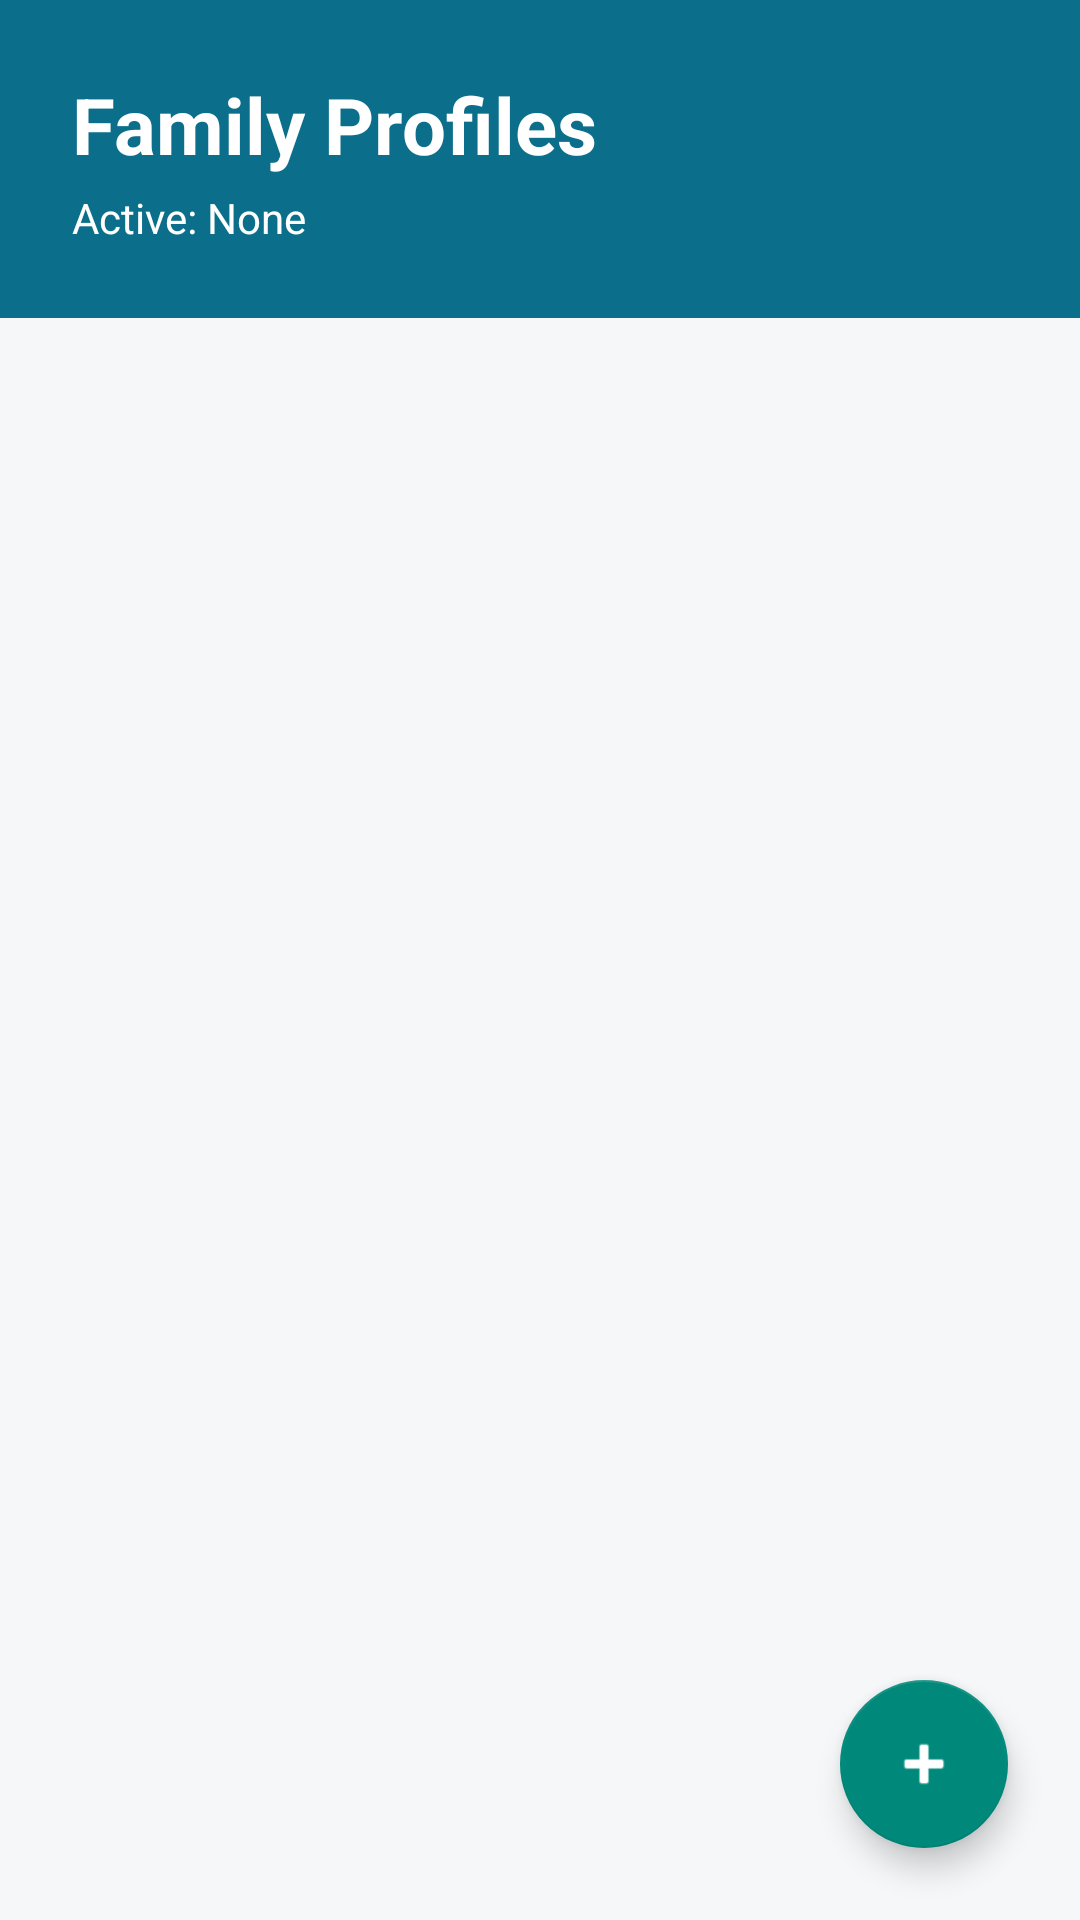

Icon click points for this 1080×1920 phone screenshot, format (x=x, y=y):
Add Profile: (x=924, y=1764)
